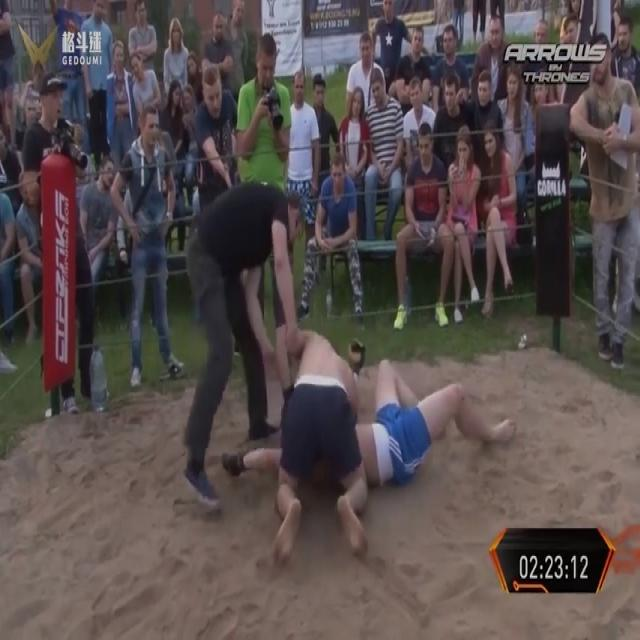fight: (219, 319, 523, 572)
non-fight: (21, 70, 96, 412), (569, 29, 639, 370), (234, 31, 296, 353), (120, 100, 180, 387), (392, 117, 454, 335), (301, 142, 363, 322), (474, 115, 518, 319), (362, 64, 404, 240), (445, 120, 481, 325), (282, 63, 321, 242), (191, 62, 238, 210), (78, 151, 119, 307), (78, 0, 115, 167), (337, 78, 372, 242), (14, 168, 43, 342), (200, 9, 238, 115), (309, 70, 340, 196), (499, 68, 533, 180), (429, 20, 467, 116), (468, 16, 506, 111), (372, 0, 409, 91), (162, 18, 195, 106)
